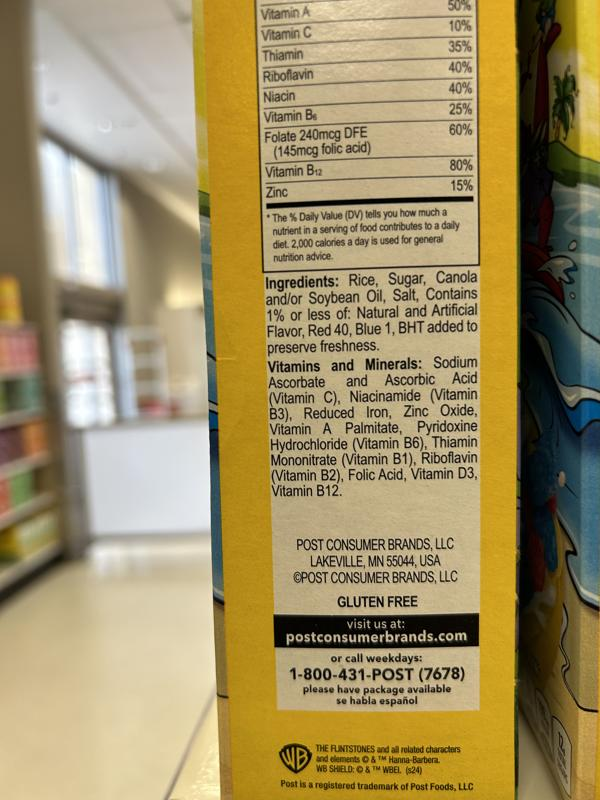ingredients: (264, 270, 480, 356)
